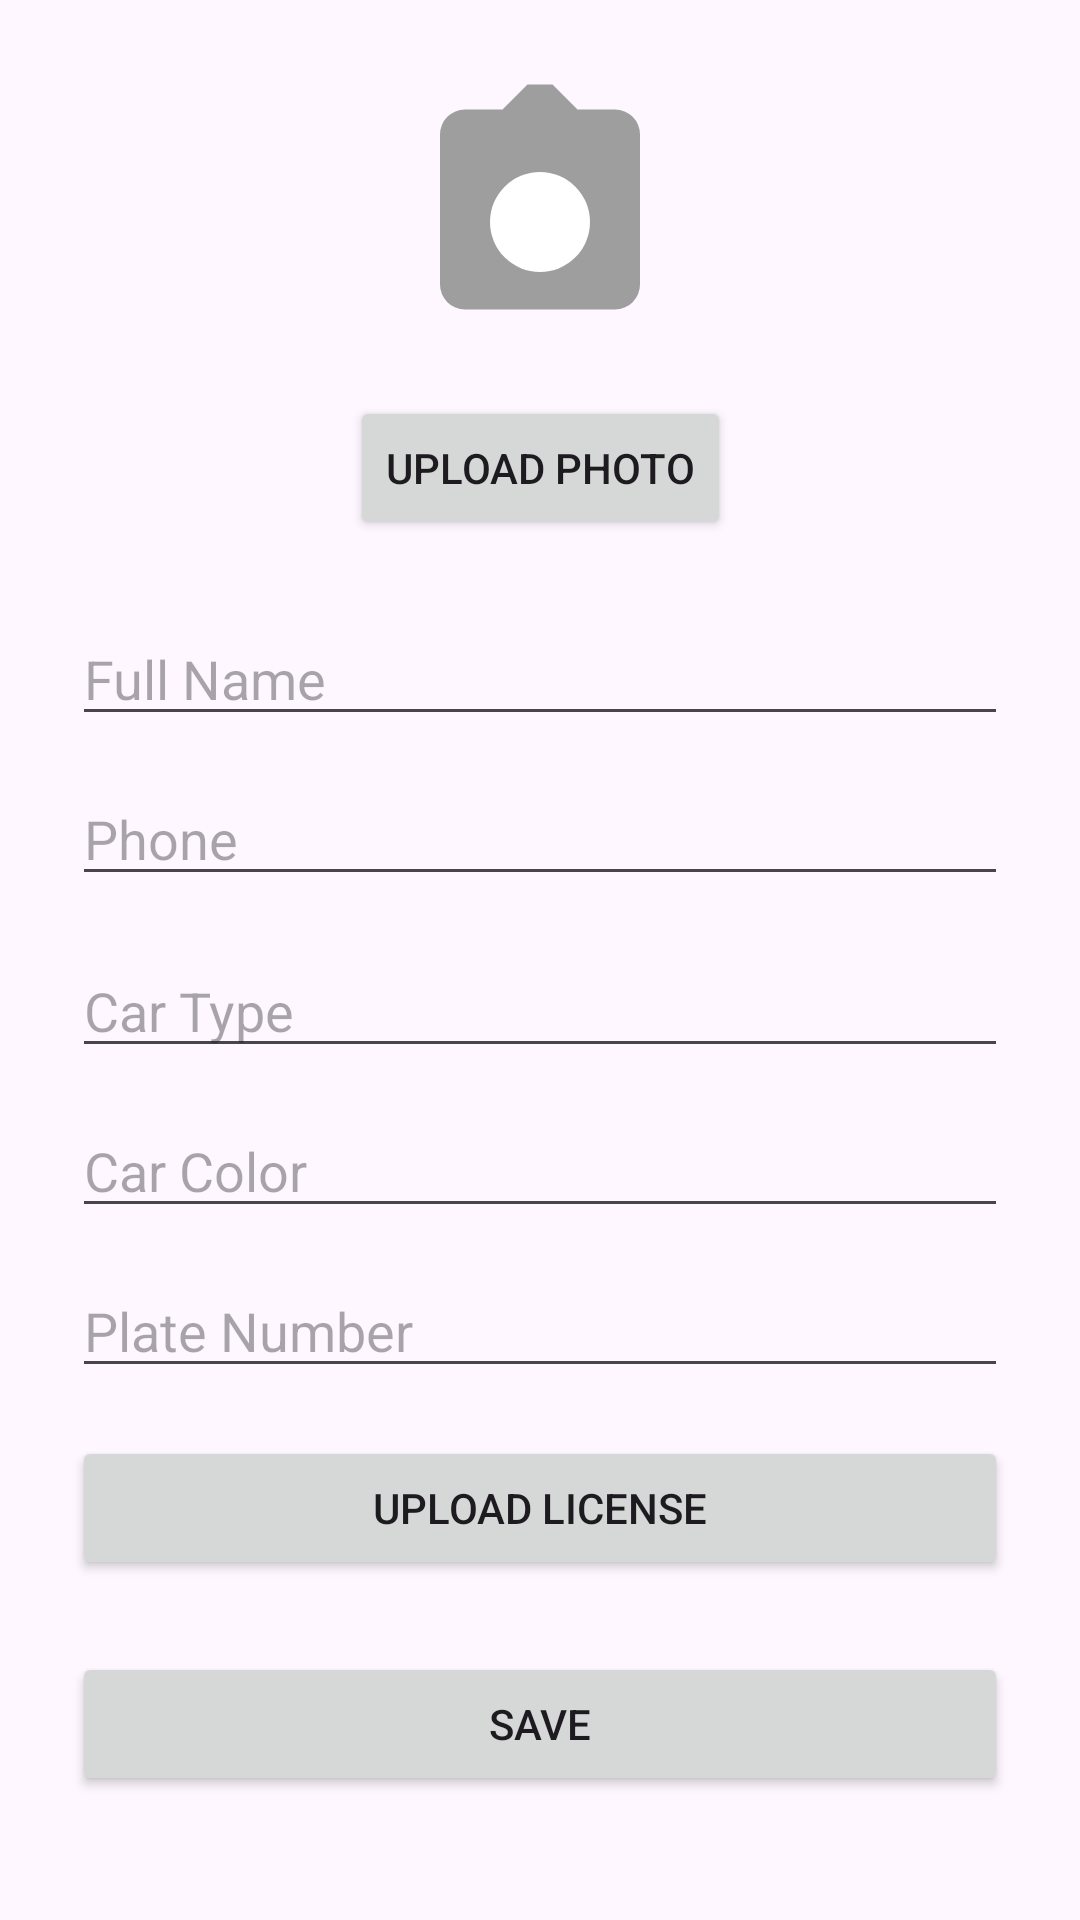

Icon click points for this 1080px x 1920px phone screenshot, format point (x, y):
Profile picture: point (540, 197)
